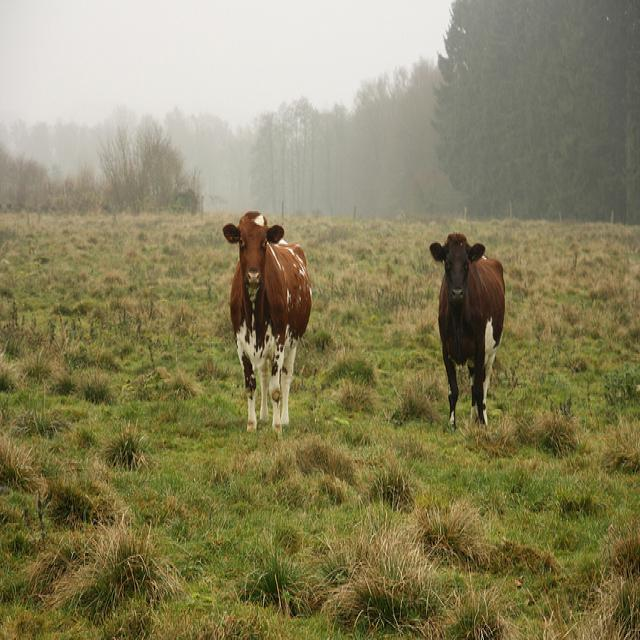cow: (216, 207, 312, 438), (428, 231, 504, 426)
